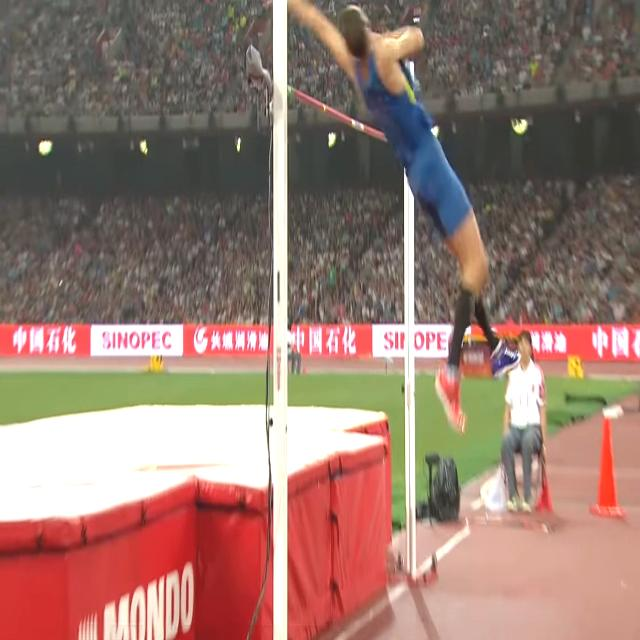jump: (286, 1, 522, 433)
